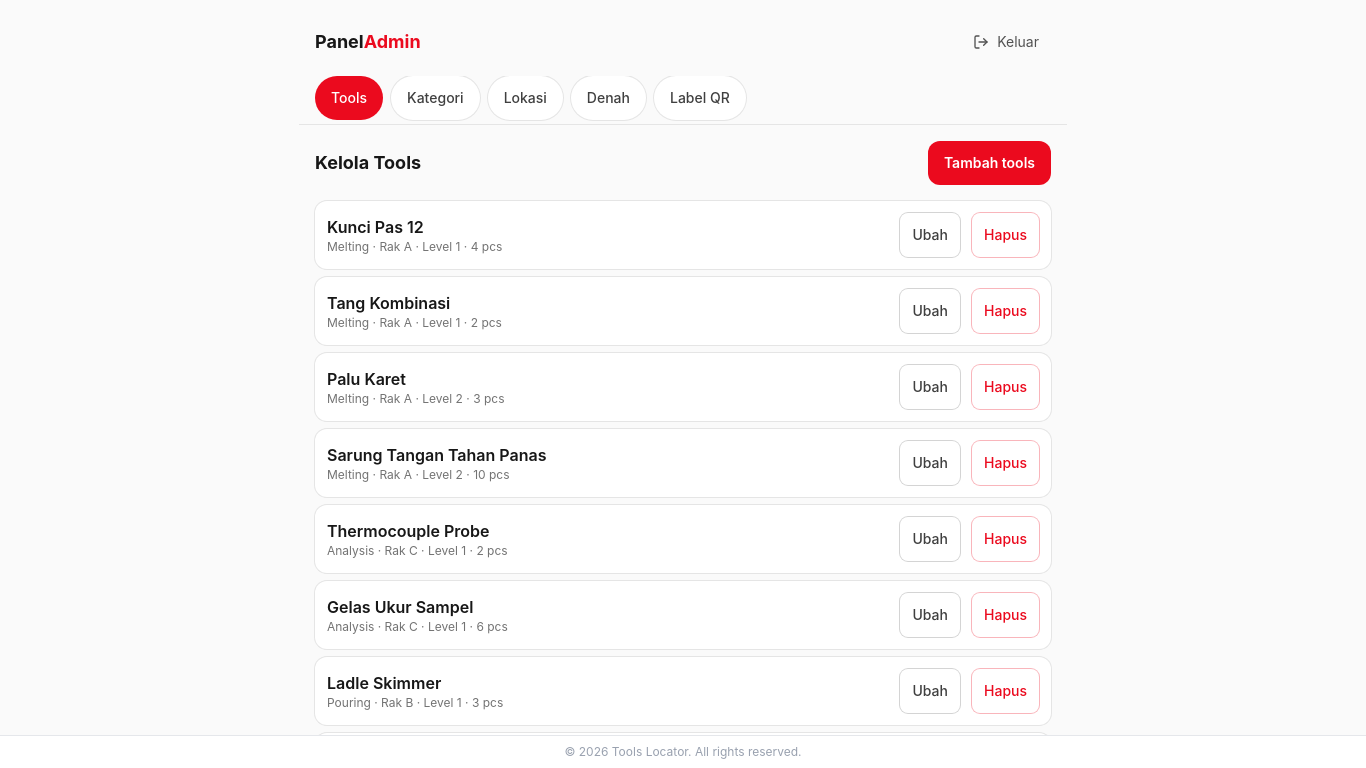
Test case: menolak simpan saat lokasi belum lengkap dipilih
expect the text "Kunci Pas 12" is shown: met, box [327, 217, 424, 237]
Click the button "Tambah tools" at (989, 163), box [928, 141, 1051, 185]
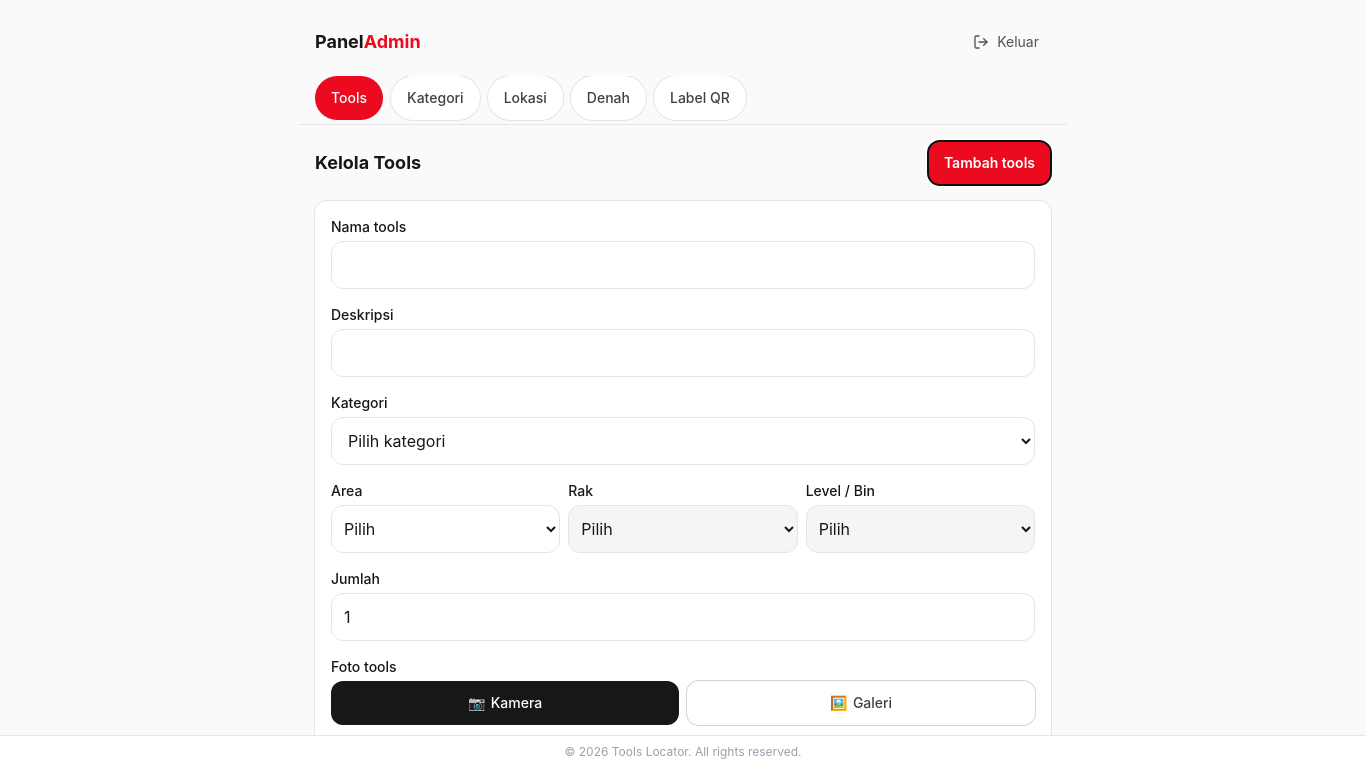
Type "Kuas Coating" into the field labelled "Nama tools" at (683, 265), box [331, 241, 1035, 289]
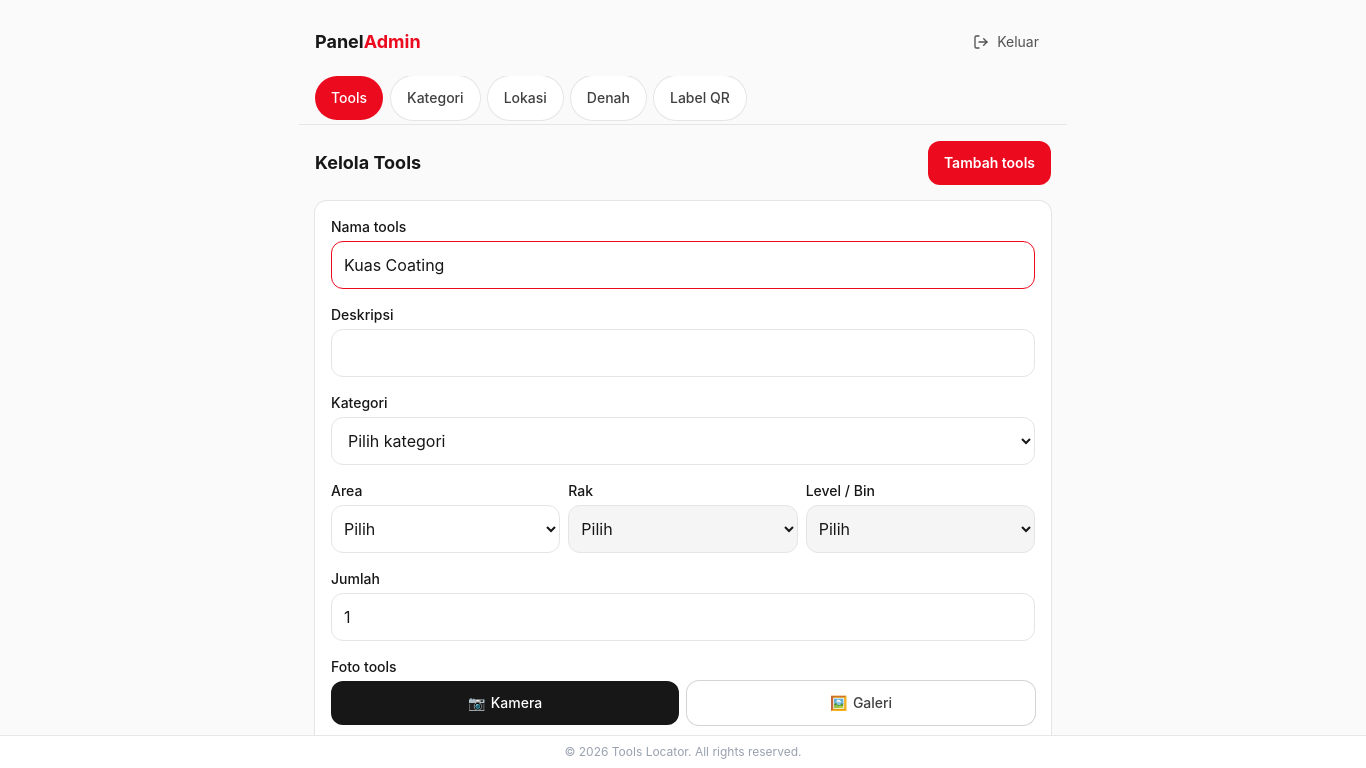
Select "Alat Pouring" in the dropdown labelled "Kategori" at (683, 441), box [331, 417, 1035, 465]
(page scrolled)
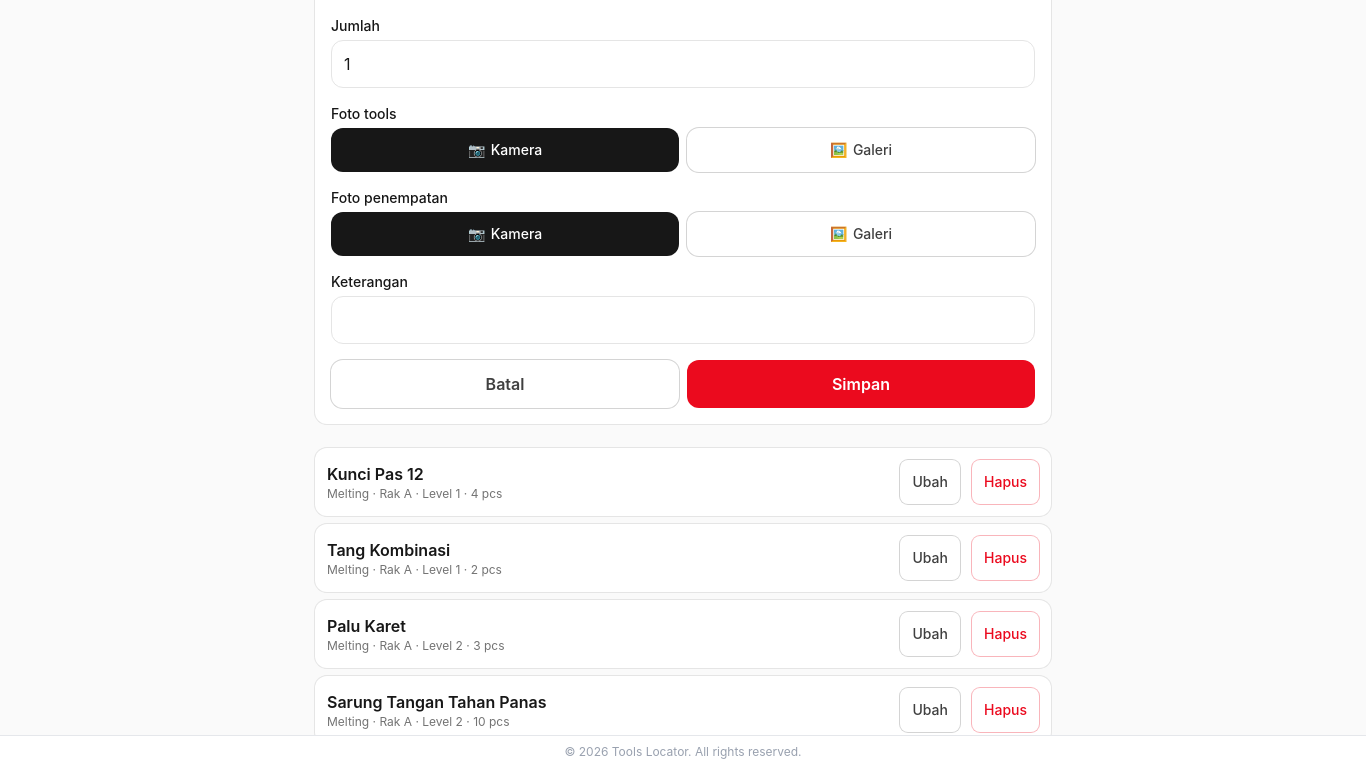
Click the button "Simpan" at (861, 384), box [687, 360, 1035, 408]
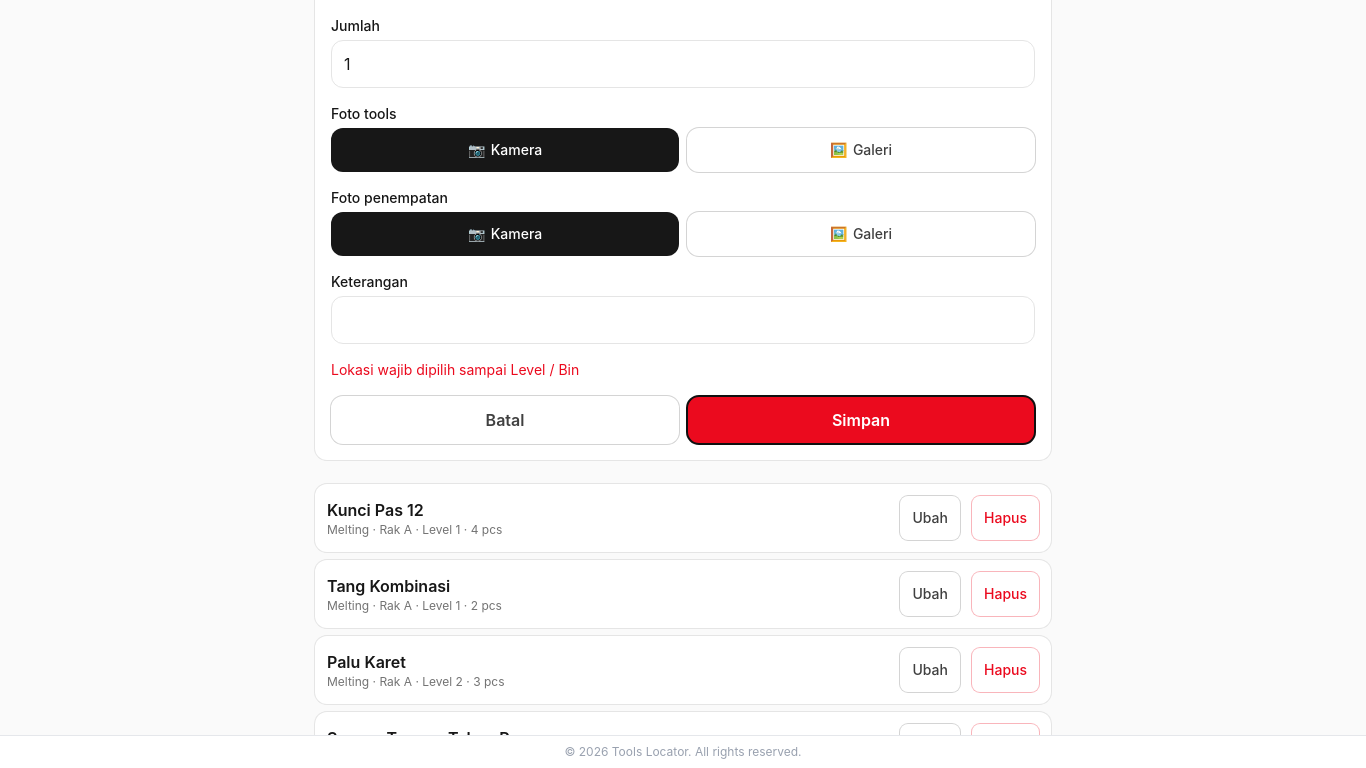
expect the text "Lokasi wajib dipilih sampai Level / Bin" is shown: met, box [331, 361, 579, 378]
